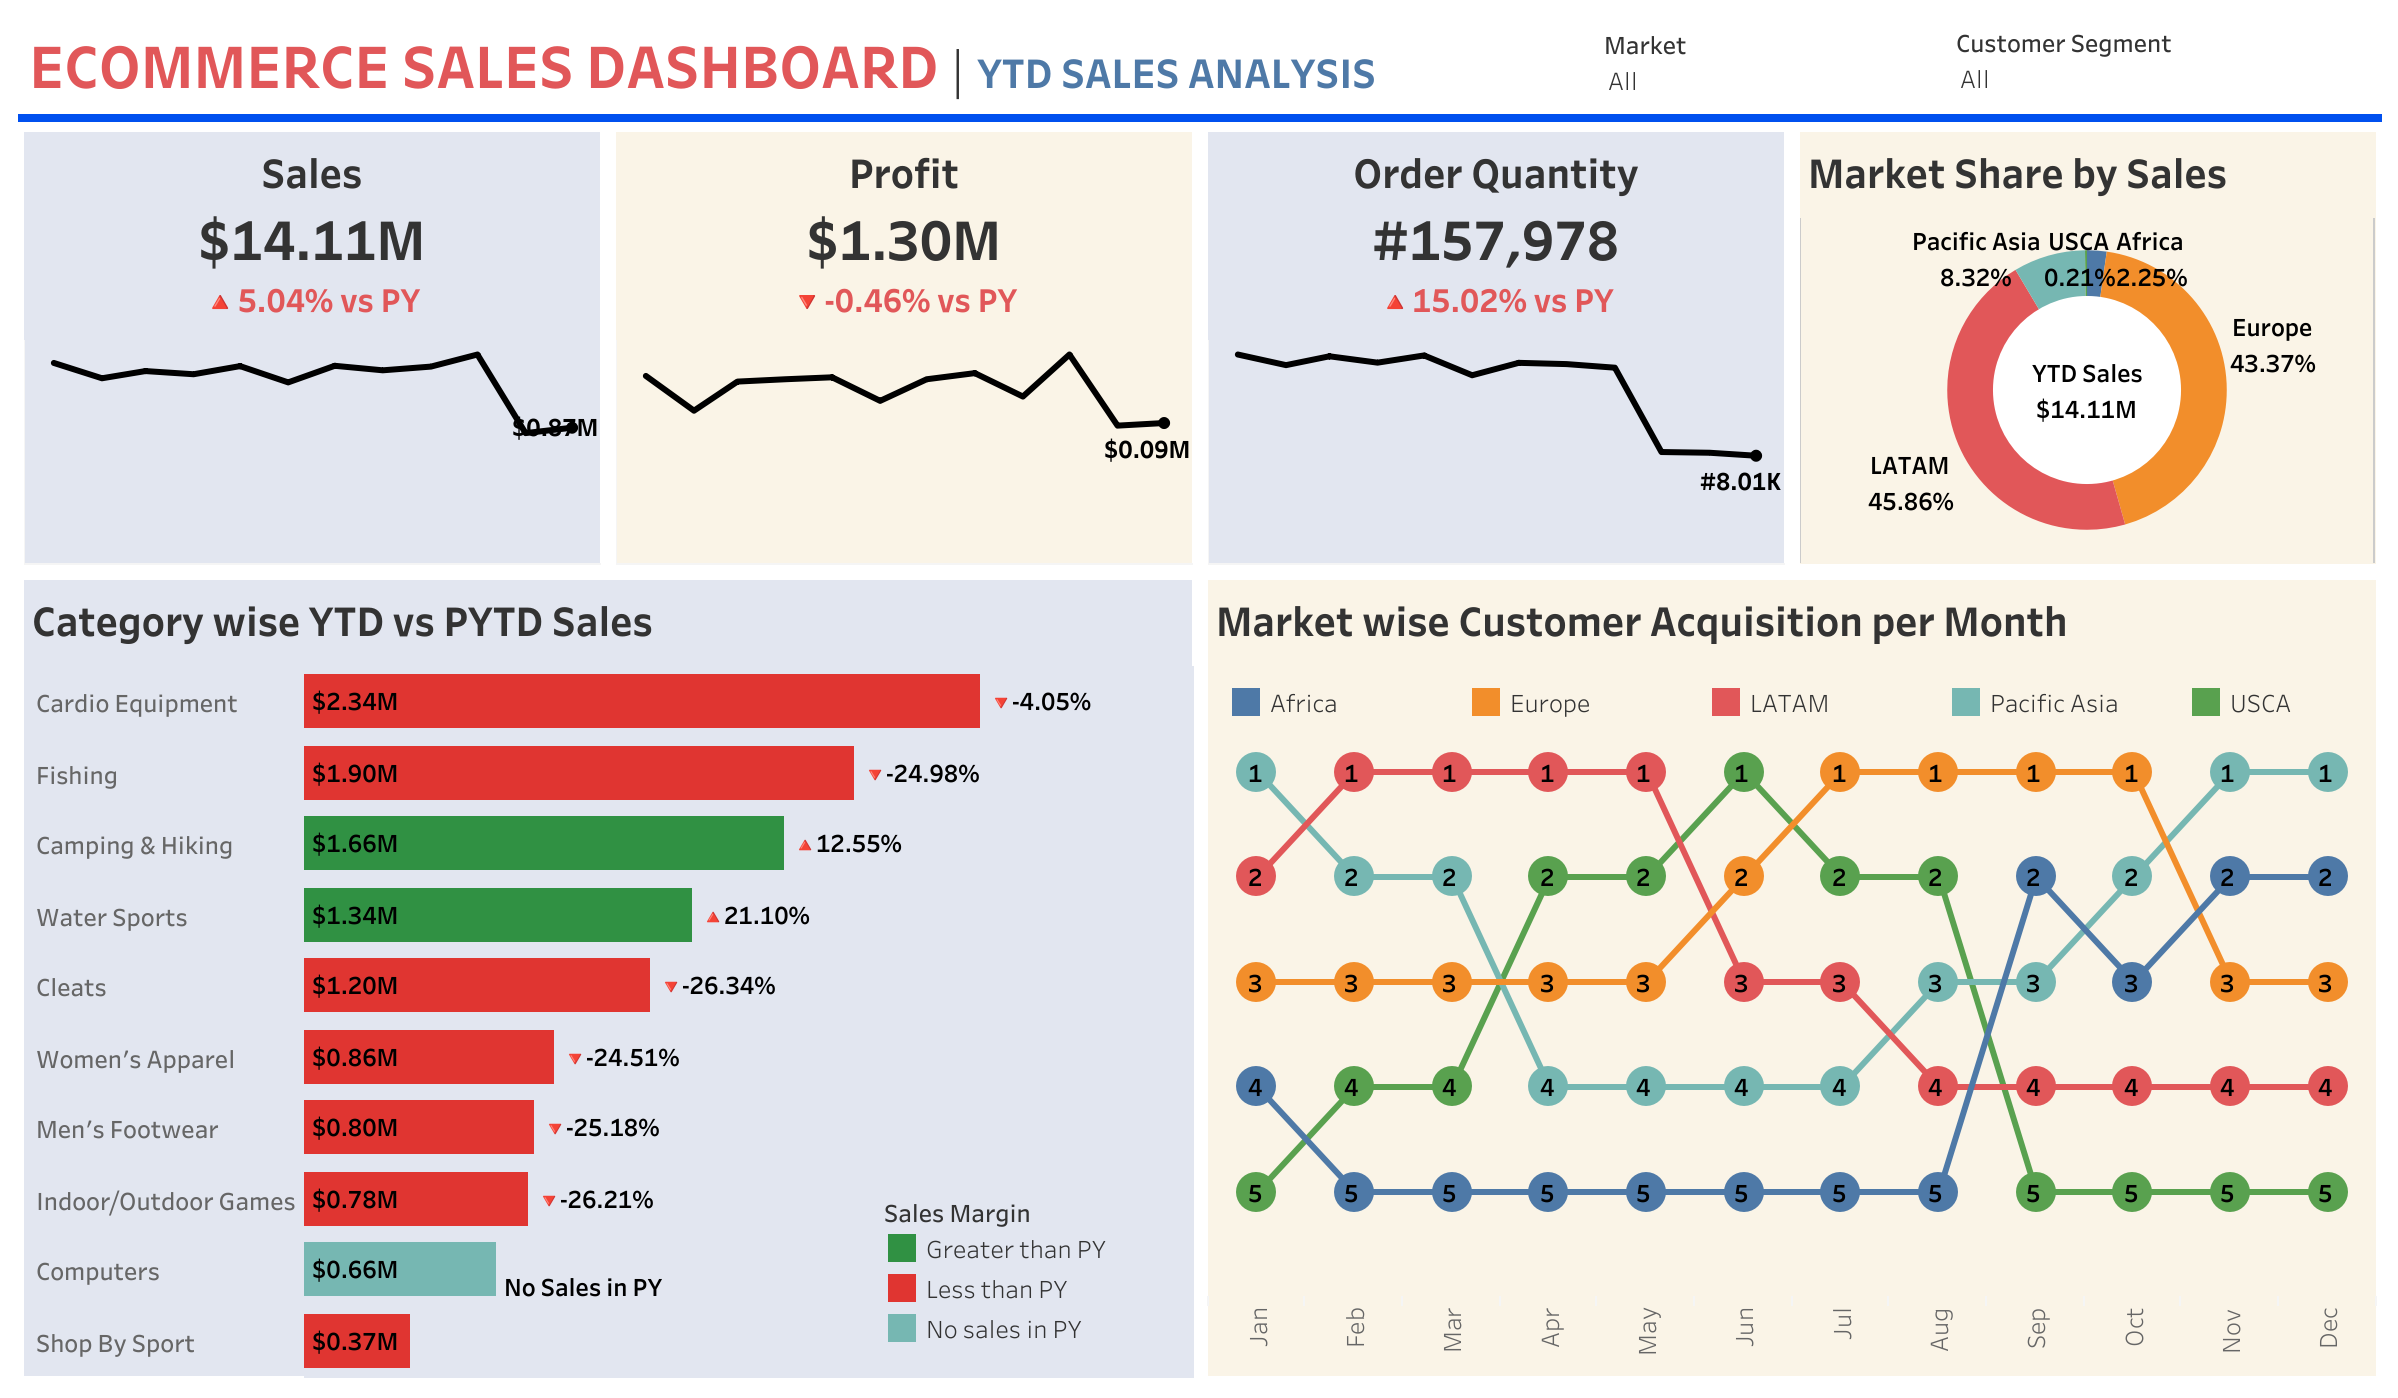

Layout of this report page (visuals, bound fields, positions):
{"tool":"tableau","page":{"name":"Dashboard 1","canvas":[1200,700],"ordinal":0},"visuals":[{"type":"title","box":[8,8,1184,48]},{"type":"filter","title":"Sales KPI","param":"[federated.0himrsh0hrpw6d1aynfvz0y3i6wv].[none:Customer Segment:nk]","box":[978,11,160,44]},{"type":"filter","title":"Market wise Customer Acquisition per Month","param":"[federated.0himrsh0hrpw6d1aynfvz0y3i6wv].[none:Market:nk]","box":[802,12,160,44]},{"type":"blank","box":[8,56,1184,6]},{"type":"worksheet","title":"Sales KPI","mark":"Automatic","rows":["Sales"],"cols":["Order Date"],"box":[8,62,296,224]},{"type":"worksheet","title":"Profit KPI","mark":"Automatic","rows":["Profit Per Order"],"cols":["Order Date"],"box":[304,62,296,224]},{"type":"worksheet","title":"Order Quantity KPI","mark":"Automatic","rows":["Order Quantity"],"cols":["Order Date"],"box":[600,62,296,224]},{"type":"worksheet","title":"Market Share by Sales","mark":"Pie","cols":["Calculation_2670775330905874433","Calculation_2670775330905915395"],"box":[896,62,296,224]},{"type":"worksheet","title":"Category wise YTD vs PYTD Sales","mark":"Bar","rows":["Category Name"],"cols":["Calculation_2670775330906361860","Calculation_2670775330906361860"],"box":[8,286,592,406]},{"type":"worksheet","title":"Market wise Customer Acquisition per Month","mark":"Automatic","cols":["Order Date"],"box":[600,286,592,406]},{"type":"legend","title":"Category wise YTD vs PYTD Sales","param":"[federated.0himrsh0hrpw6d1aynfvz0y3i6wv].[usr:Calculation_2670775330914041863:nk","box":[441,595,140,78]}]}

Visuals, with their boxes in screenshot pixels (x1, y1, x2, y2), scaled from the page's 1200x700 canvas onto the 2398x1398 screenshot:
title: <region>16, 16, 2382, 112</region>
"Sales KPI" filter: <region>1954, 22, 2274, 110</region>
"Market wise Customer Acquisition per Month" filter: <region>1603, 24, 1922, 112</region>
blank: <region>16, 112, 2382, 124</region>
"Sales KPI" worksheet: <region>16, 124, 607, 571</region>
"Profit KPI" worksheet: <region>607, 124, 1199, 571</region>
"Order Quantity KPI" worksheet: <region>1199, 124, 1791, 571</region>
"Market Share by Sales" worksheet (Pie marks): <region>1791, 124, 2382, 571</region>
"Category wise YTD vs PYTD Sales" worksheet (Bar marks): <region>16, 571, 1199, 1382</region>
"Market wise Customer Acquisition per Month" worksheet: <region>1199, 571, 2382, 1382</region>
"Category wise YTD vs PYTD Sales" legend: <region>881, 1188, 1161, 1344</region>
